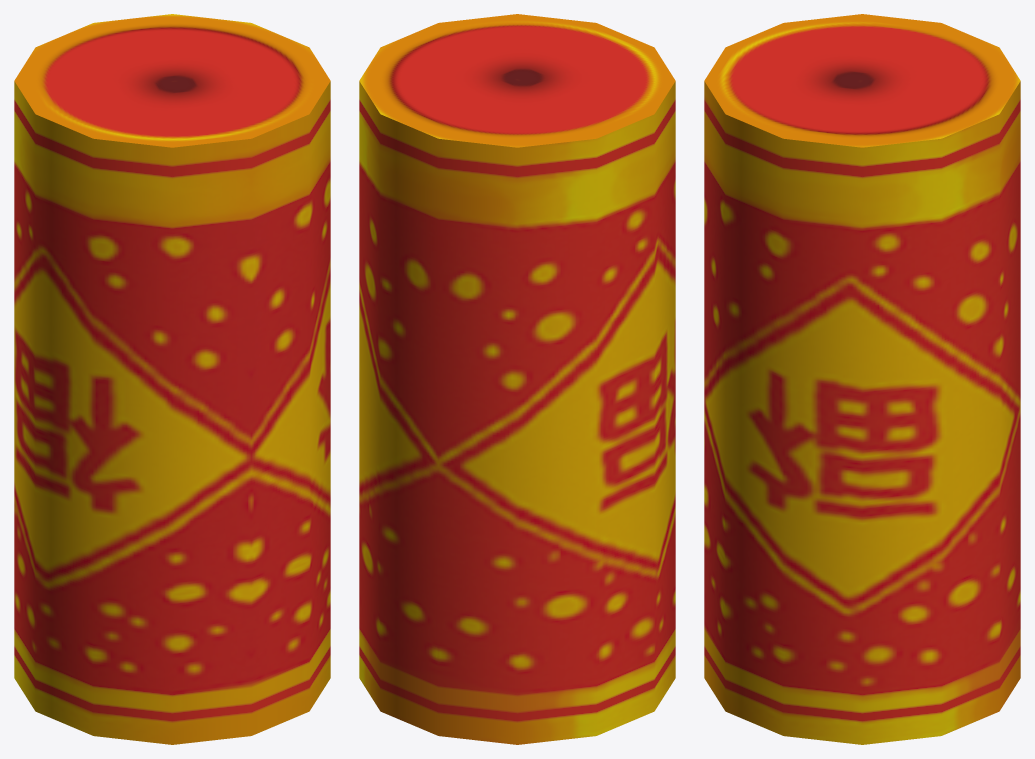
The model's file is pao.FBX.
The picture shows the model from 3 angles, left to right: view 1: azimuth 30°, elevation 25°; view 2: azimuth 150°, elevation 25°; view 3: azimuth 270°, elevation 25°; orthographic projection.
Parts seen in each view (by area): view 1: pao; view 2: pao; view 3: pao.
Part boxes in pixels (<box>): pao: <box>14,14,330,744</box>; pao: <box>359,14,675,744</box>; pao: <box>704,14,1020,744</box>.
Size of the model in its own units: 57.41 by 120 by 57.41.
